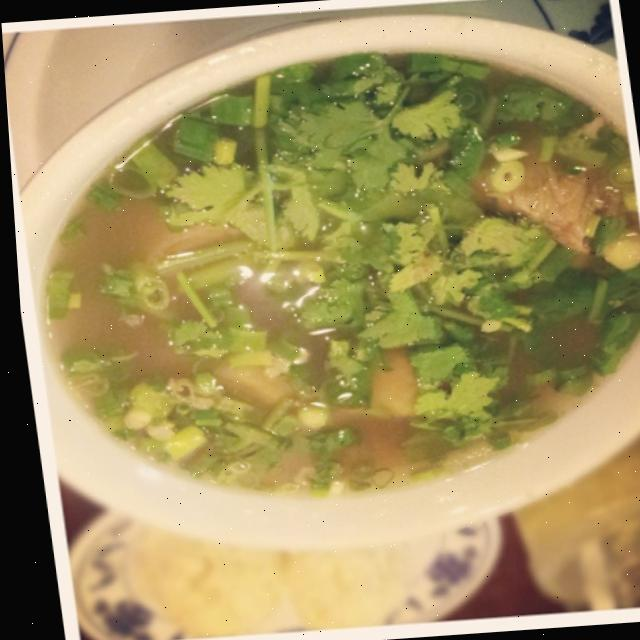汤锅炖物: (12, 21, 640, 583)
